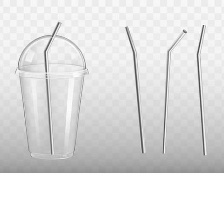drinking_straw: (120, 24, 151, 156), (159, 26, 189, 156), (41, 18, 65, 157), (193, 23, 217, 158)
glass: (10, 32, 93, 164)
